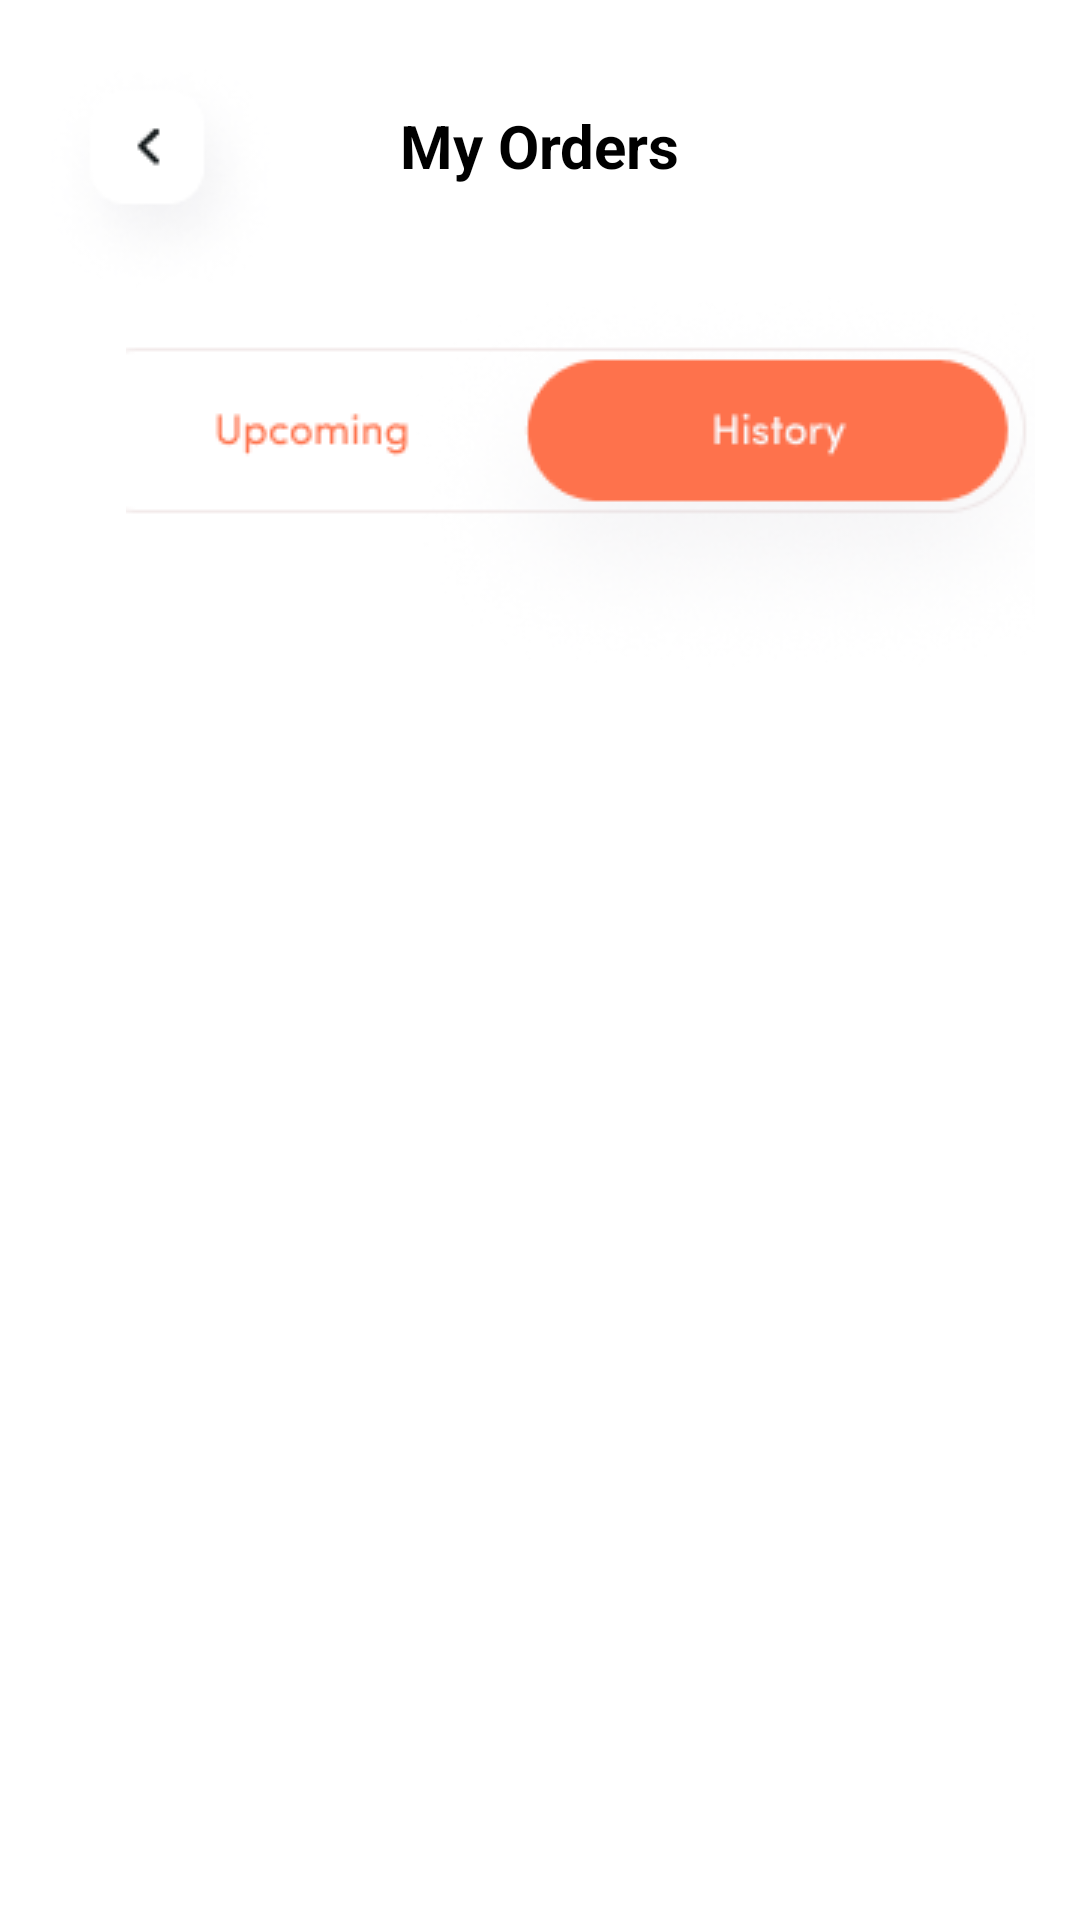

Where icons sit on this 1080px x 1920px app screen, as (x1, y1, x2, y2):
backbtn: (137, 128, 160, 166)
